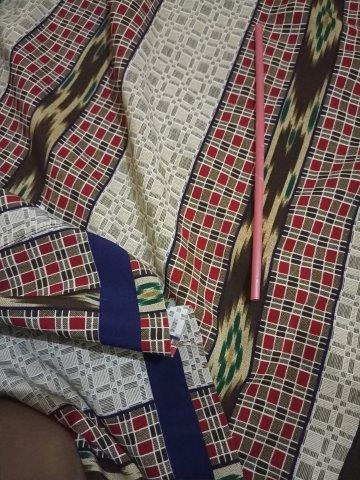sedotan: (250, 25, 263, 300)
